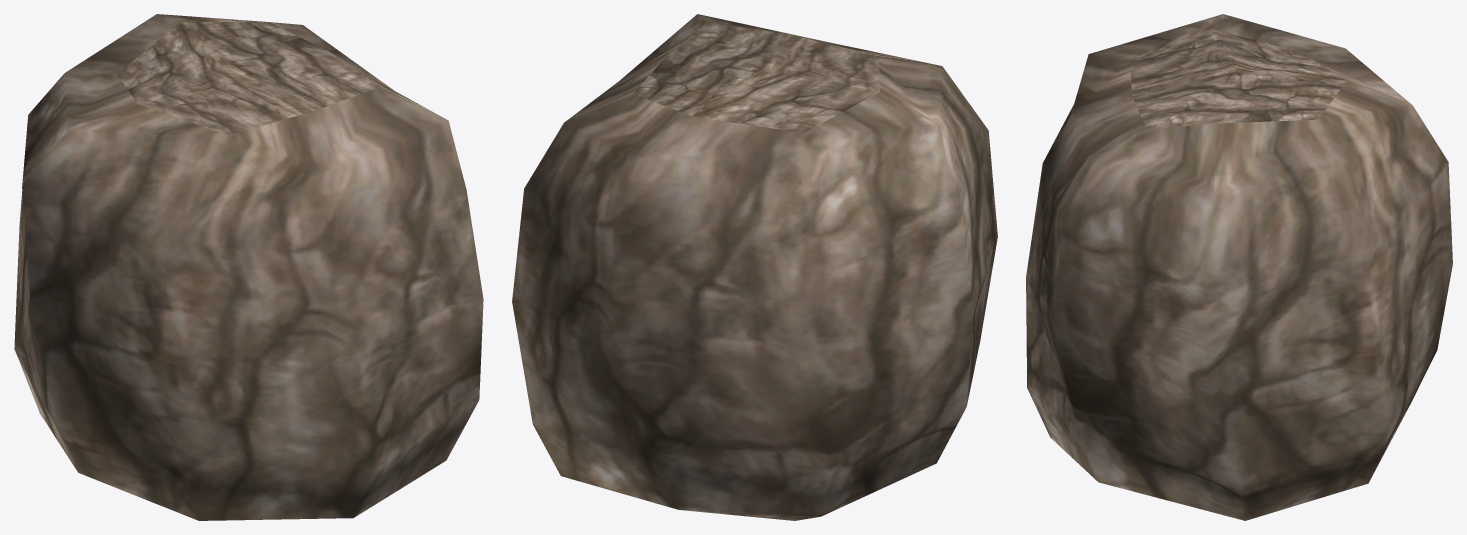
The model's file is INST_EKH_ROCKA.fbx.
3 renders of one model, left to right at view 1: azimuth 30°, elevation 25°; view 2: azimuth 150°, elevation 25°; view 3: azimuth 270°, elevation 25°, orthographic. The views are drawn at different scales.
Visible parts, largest first — view 1: INST_EKH_ROCKA; view 2: INST_EKH_ROCKA; view 3: INST_EKH_ROCKA.
Part boxes in pixels (left/top/right/bottom): INST_EKH_ROCKA: left=14, top=14, right=483, bottom=520; INST_EKH_ROCKA: left=512, top=14, right=997, bottom=520; INST_EKH_ROCKA: left=1026, top=14, right=1452, bottom=520.
Size of the model in its own units: 20016 by 19550 by 20000.
Materials: 1 (1 with a texture image).
